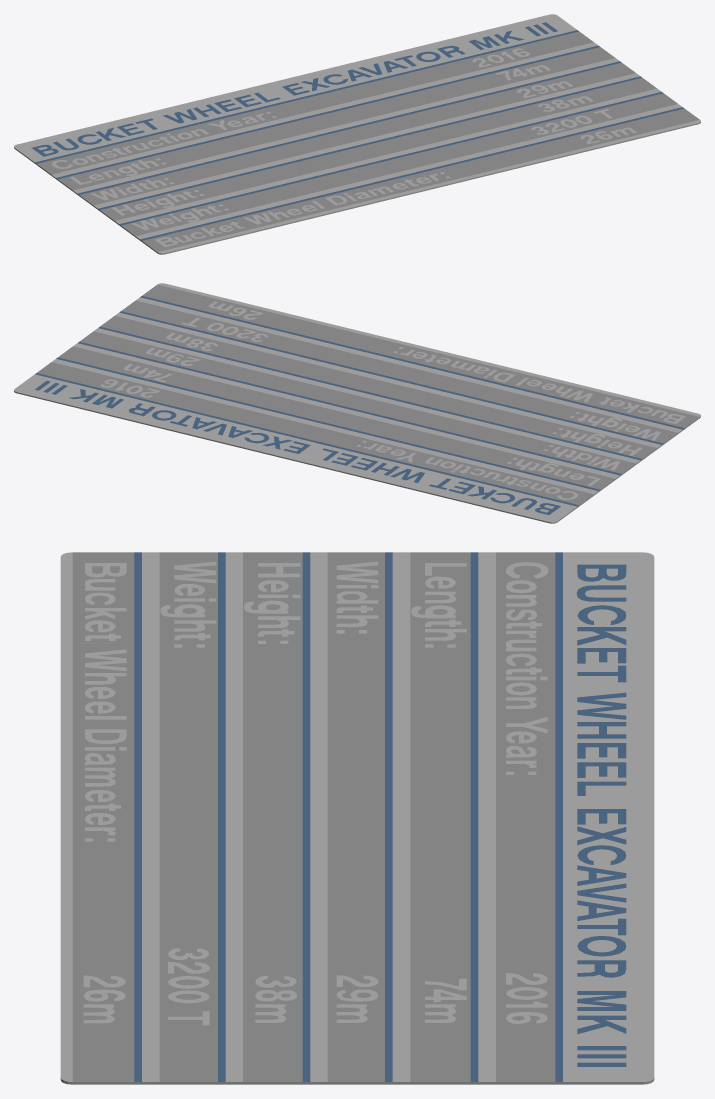
The picture shows the model from 3 angles, top to bottom: view 1: azimuth 30°, elevation 25°; view 2: azimuth 150°, elevation 25°; view 3: azimuth 270°, elevation 25°; orthographic projection. The views are drawn at different scales.
Visible parts, largest first — view 1: world; view 2: world; view 3: world.
Boxes of the visible parts, x1,y1,x2,y2 form: world: [14, 14, 700, 254]; world: [14, 283, 700, 523]; world: [60, 552, 654, 1084].
Bounding box in the file's own units: 0.0456 × 0.0001 × 0.0216.
